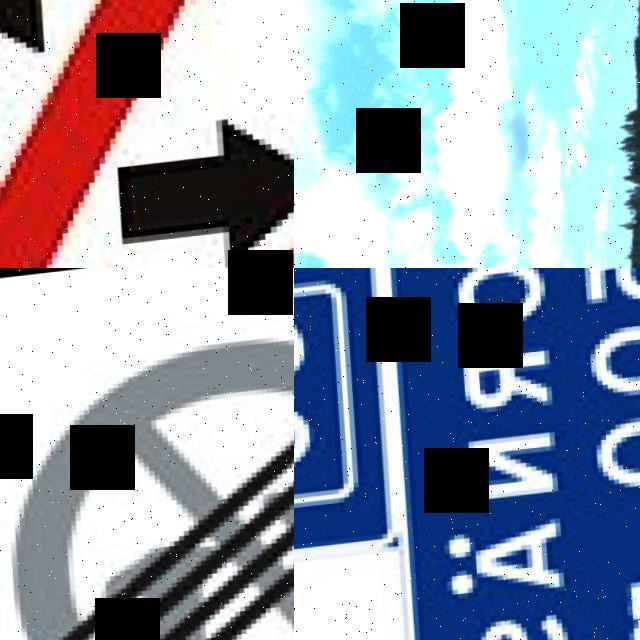111: (0, 268, 294, 640)
2: (294, 268, 640, 640)
One-way traffic: (0, 0, 294, 268)
